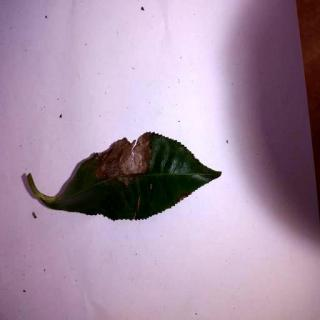Anthracnose: (27, 129, 223, 221)
